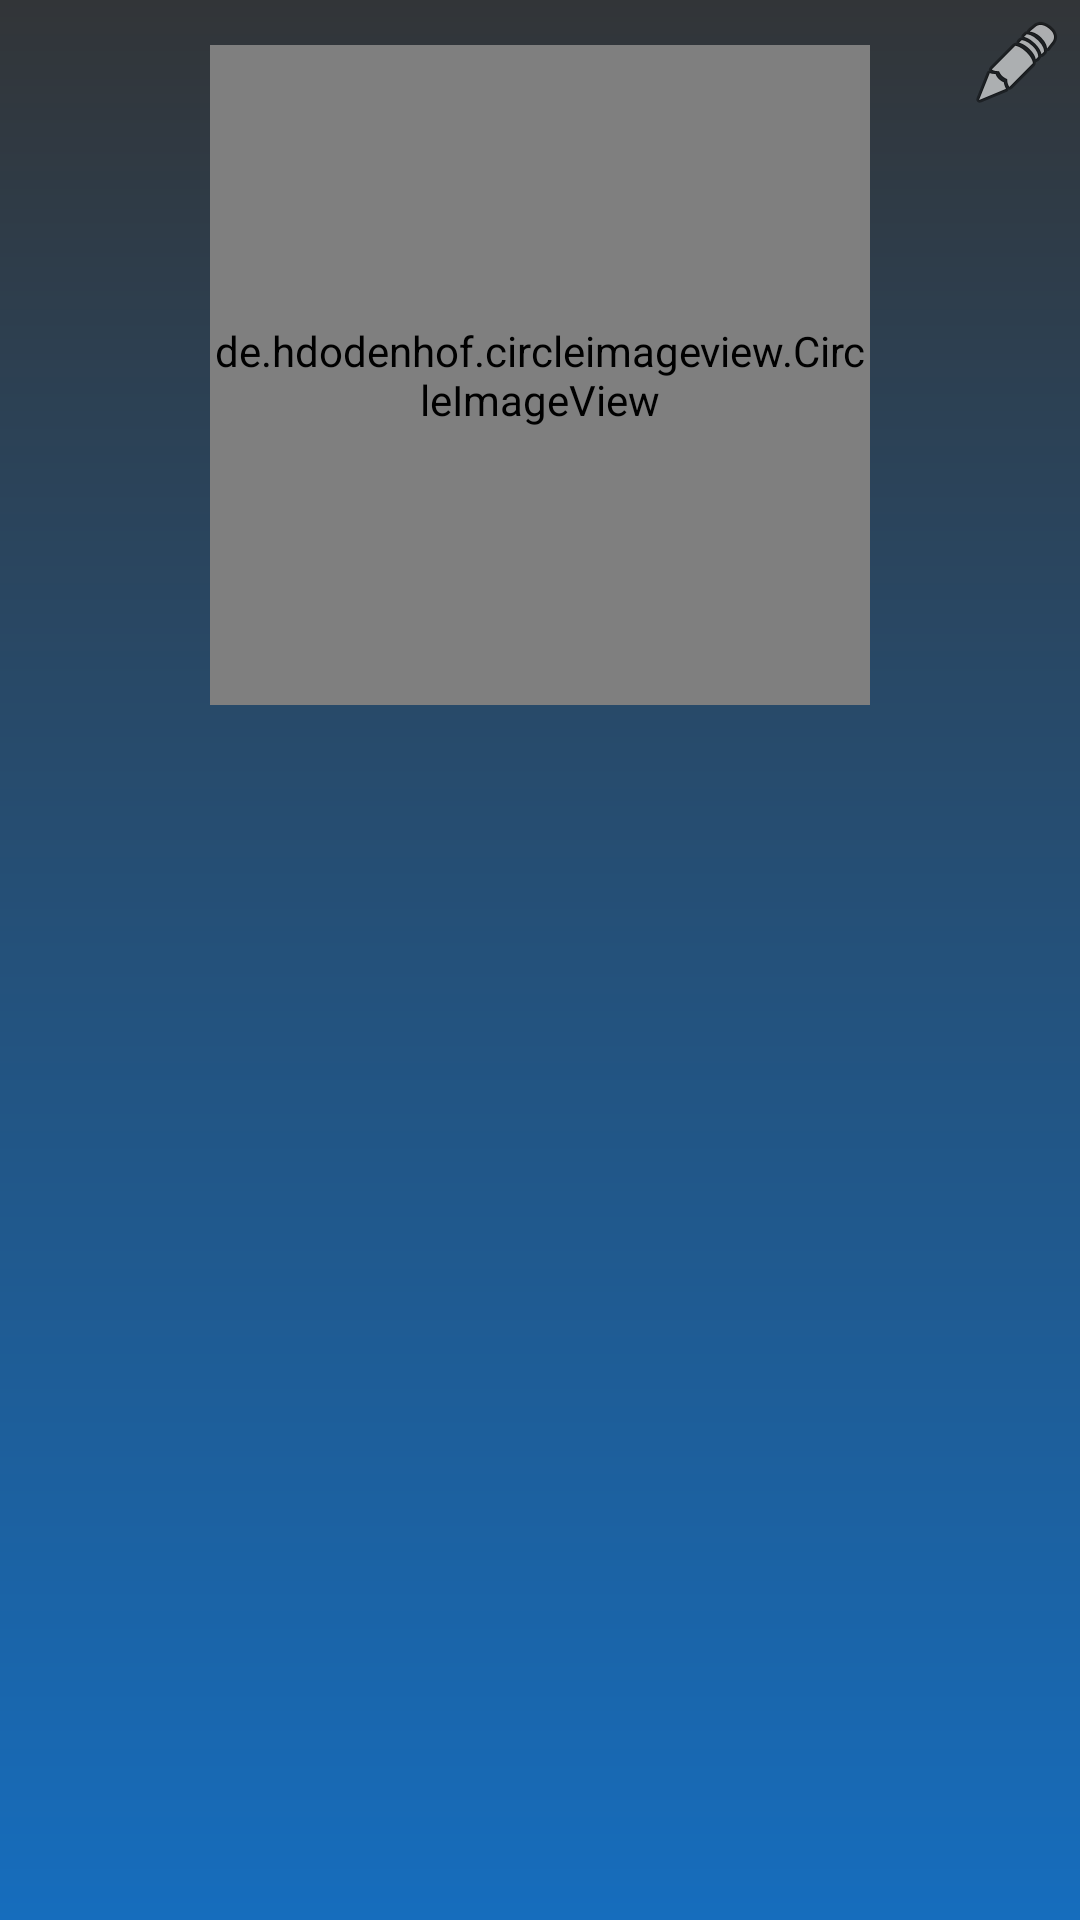

Screen size 1080 x 1920. Icon name, then its box in pixels as (left=x1, top=y1, right=x2, bottom=y2):
edit: (left=978, top=22, right=1056, bottom=101)
